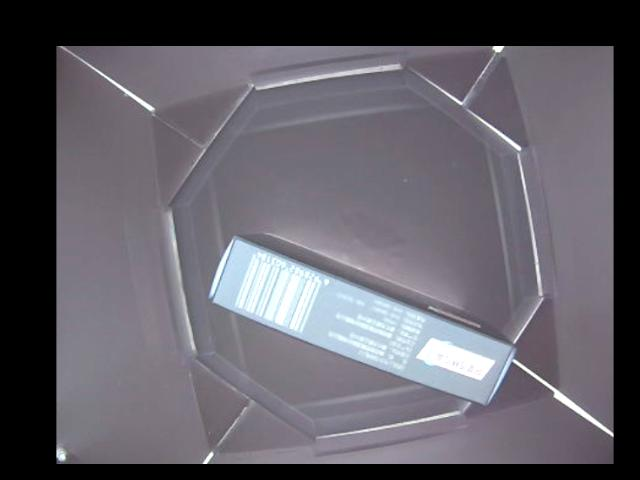Medicine: (208, 235, 516, 404)
